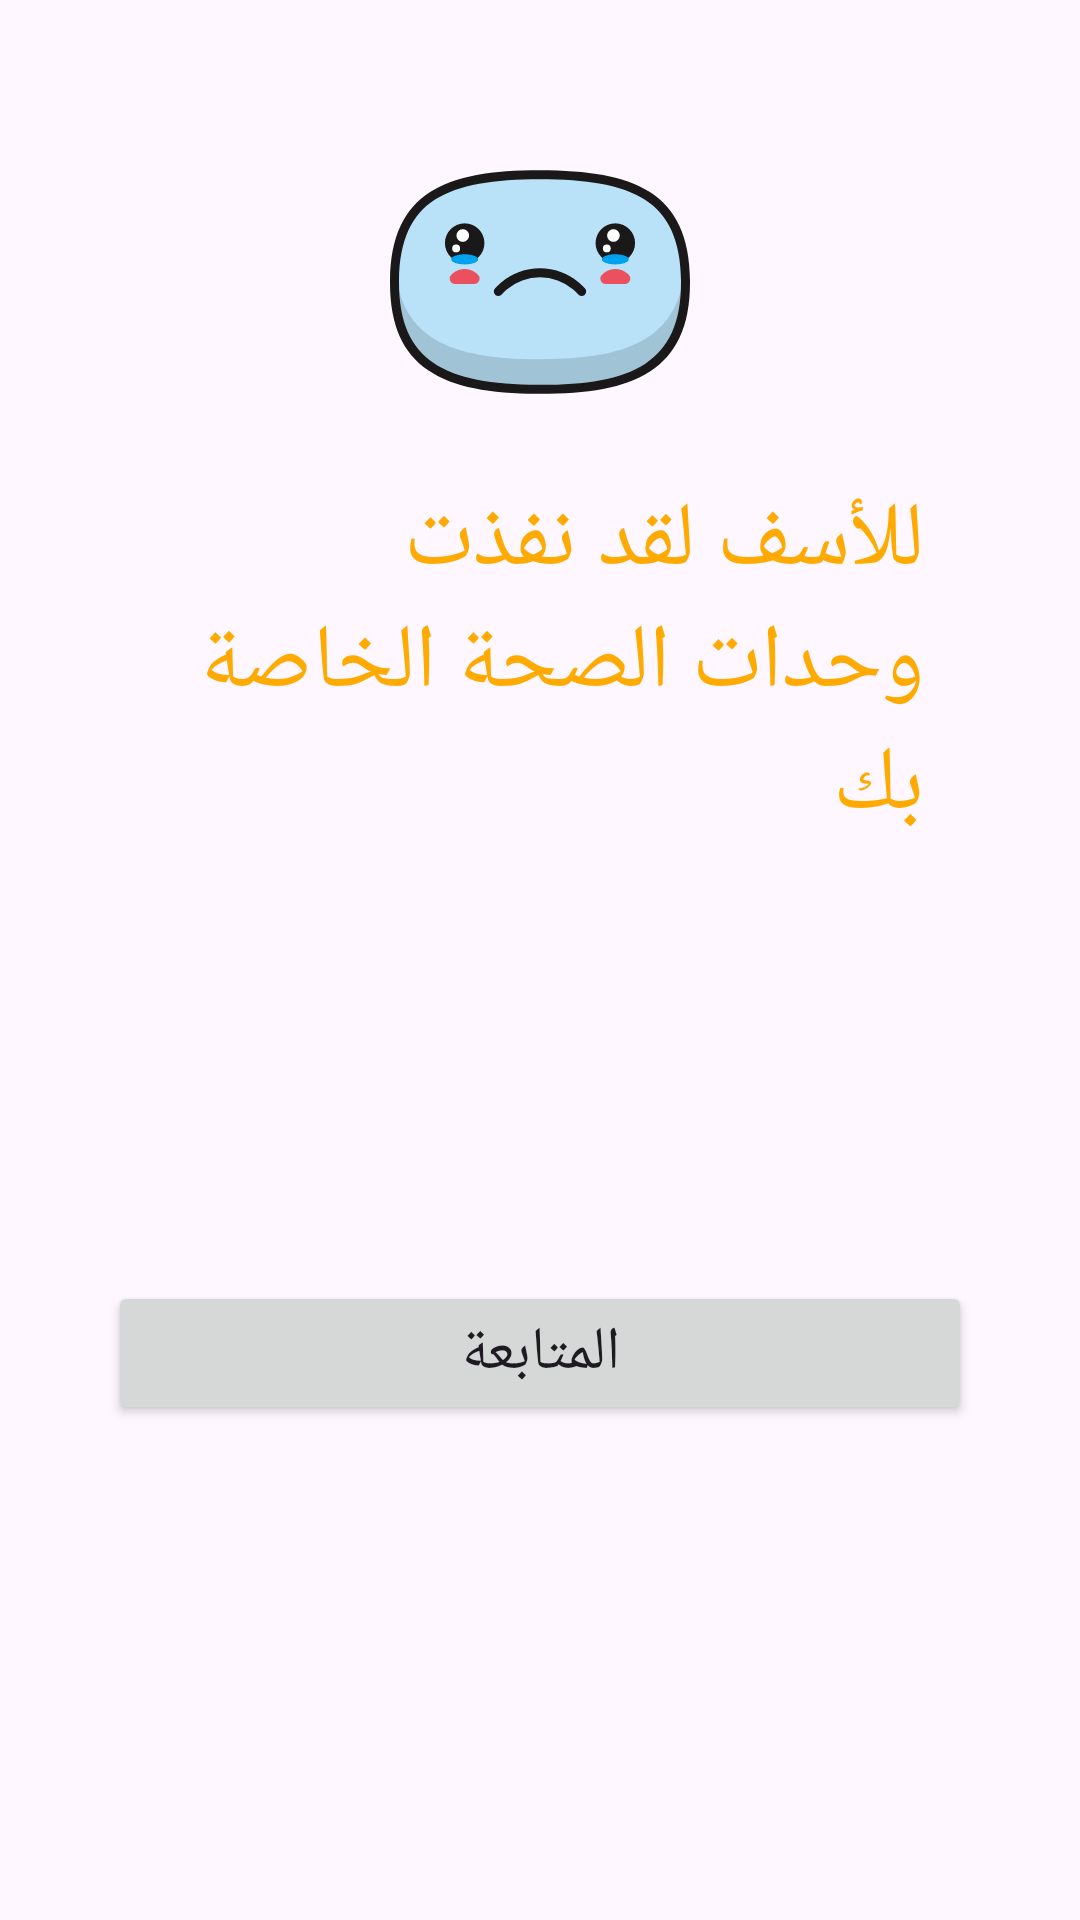

Where to tap for icons on this 1080*1920 app screen, as (x=x, y=y):
sad: (x=540, y=282)
